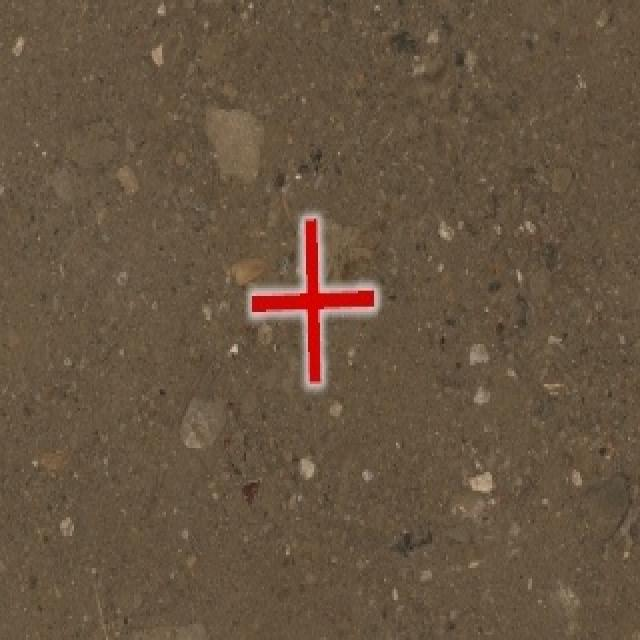x_marker: (251, 217, 375, 383)
